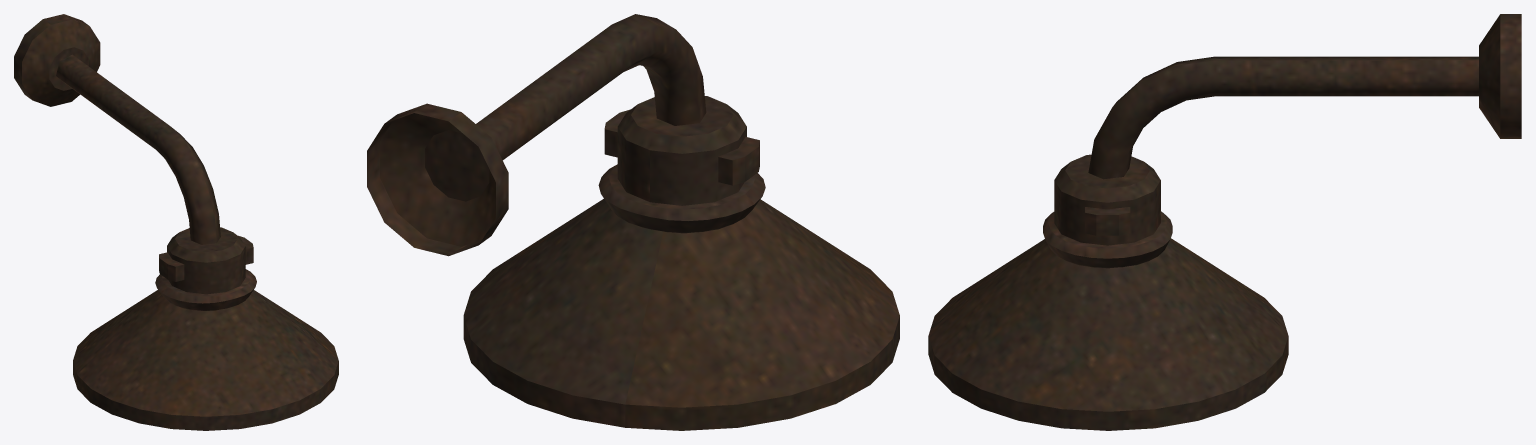
File: lamp_mx_4_off.obj
3 views of the same model, side by side, from view 1: azimuth 30°, elevation 25°; view 2: azimuth 150°, elevation 25°; view 3: azimuth 270°, elevation 25° (orthographic). The views are drawn at different scales.
Visible parts, largest first — view 1: lamp_mx_4_off; view 2: lamp_mx_4_off; view 3: lamp_mx_4_off.
Boxes of the visible parts, bbox=[...] form: lamp_mx_4_off: bbox=[14, 14, 338, 430]; lamp_mx_4_off: bbox=[367, 14, 899, 430]; lamp_mx_4_off: bbox=[928, 14, 1521, 430].
Bounding box in the file's own units: 0.51 × 0.5559 × 0.84.
